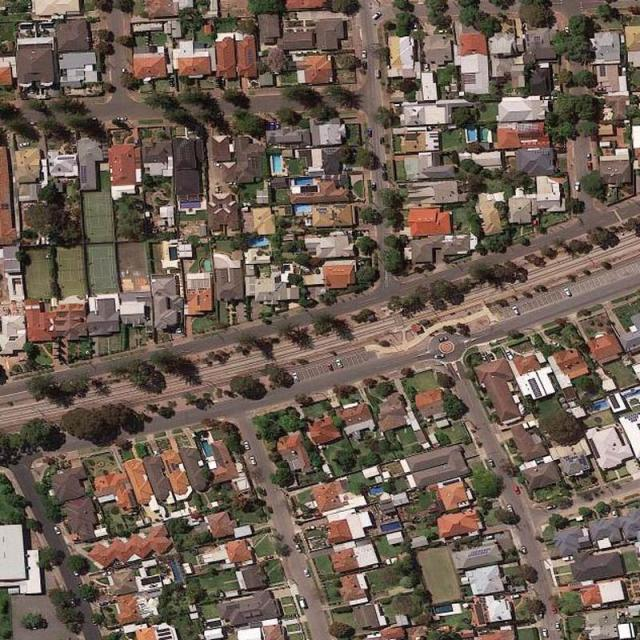vehicle: (511, 304, 520, 314), (505, 349, 513, 360), (299, 597, 306, 608), (563, 554, 574, 561), (563, 287, 571, 296), (54, 526, 62, 535), (292, 372, 299, 381), (586, 162, 593, 171), (488, 459, 495, 468), (175, 323, 181, 333), (372, 12, 380, 19), (295, 545, 302, 553), (303, 570, 310, 578), (514, 486, 521, 494), (434, 354, 445, 359), (306, 525, 317, 530), (250, 456, 256, 465), (541, 95, 551, 100), (336, 360, 342, 368), (244, 442, 250, 450), (507, 505, 513, 513), (382, 172, 387, 181), (438, 337, 447, 342), (574, 181, 579, 190), (547, 505, 556, 510), (542, 628, 547, 637), (19, 142, 30, 146), (327, 364, 333, 371), (362, 50, 367, 58), (552, 606, 557, 614), (555, 622, 560, 630), (510, 594, 520, 598), (375, 70, 379, 79), (368, 129, 372, 138), (438, 30, 447, 34), (363, 62, 367, 70), (414, 24, 418, 32), (566, 26, 570, 34), (382, 164, 386, 171), (586, 153, 590, 160), (522, 546, 526, 553), (425, 63, 429, 70), (539, 612, 543, 618), (372, 182, 375, 189), (118, 118, 126, 120)
